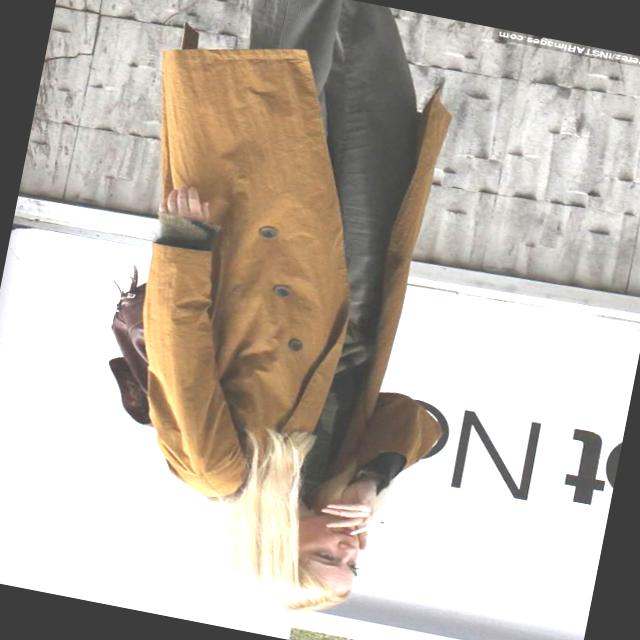smoke: (344, 506, 394, 556)
